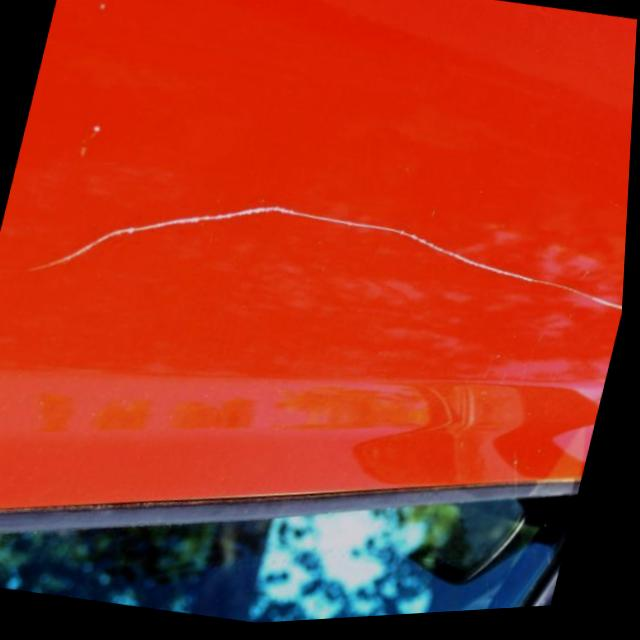Scratch: (15, 194, 623, 314)
